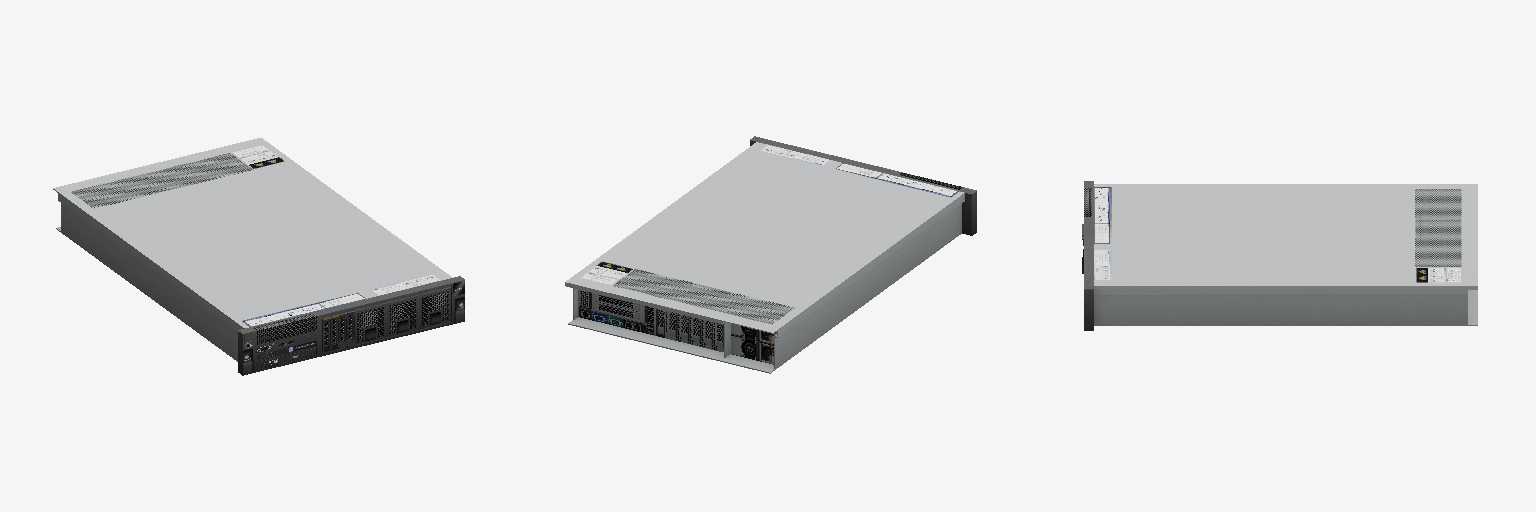
3 views of the same model, side by side, from view 1: azimuth 30°, elevation 25°; view 2: azimuth 150°, elevation 25°; view 3: azimuth 270°, elevation 25° (orthographic).
Parts seen in each view (by area): view 1: default; view 2: default; view 3: default.
Boxes of the visible parts, box(x1,y1,x2,y2) form: default: box(53, 138, 464, 375); default: box(565, 136, 976, 373); default: box(1082, 181, 1477, 330).
Bounding box in the file's own units: 50.55 × 9.04 × 77.79.
1 materials, 1 textured.